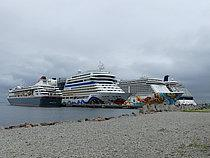Ship: (64, 62, 139, 111), (5, 74, 68, 110)
